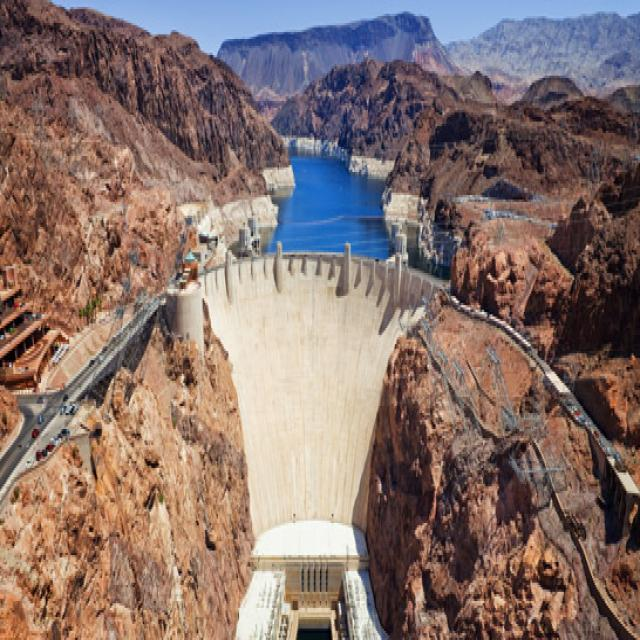Concrete: (202, 252, 423, 539)
